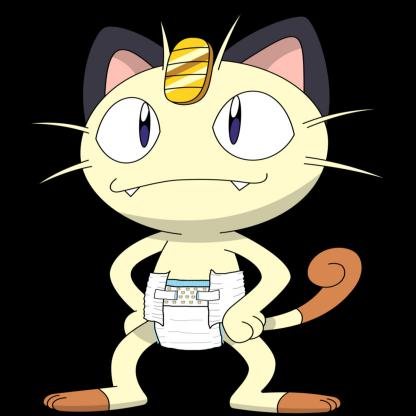Meowth: (57, 11, 362, 416)
